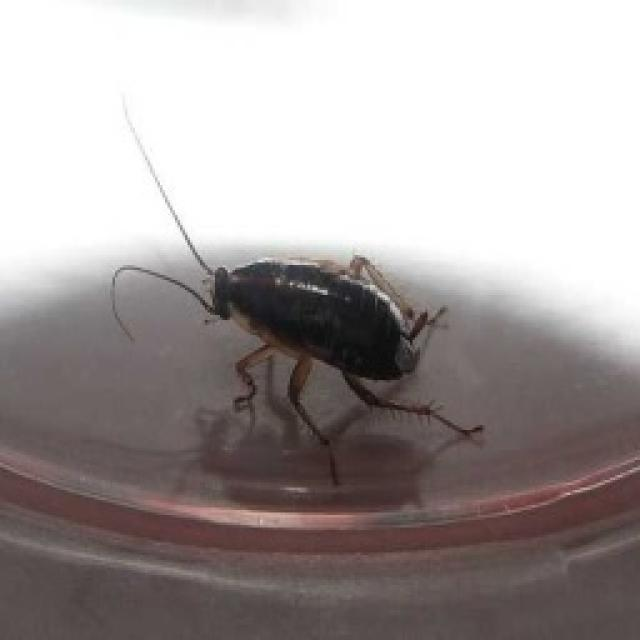cockroach: (104, 95, 489, 490)
